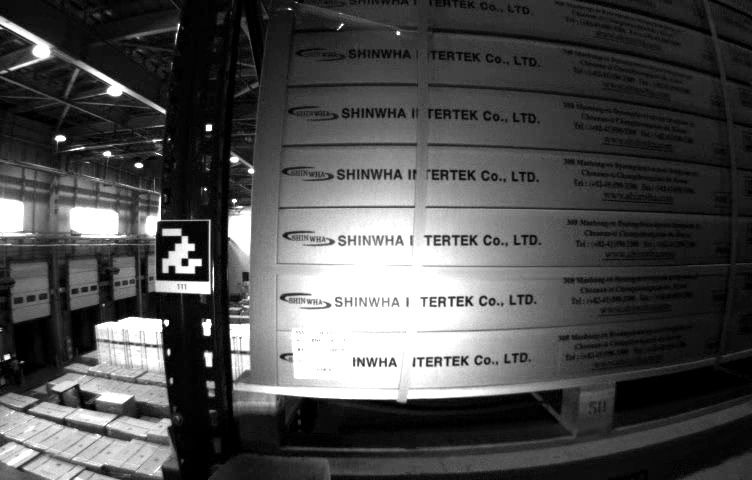True Barcode: (293, 326, 348, 379)
